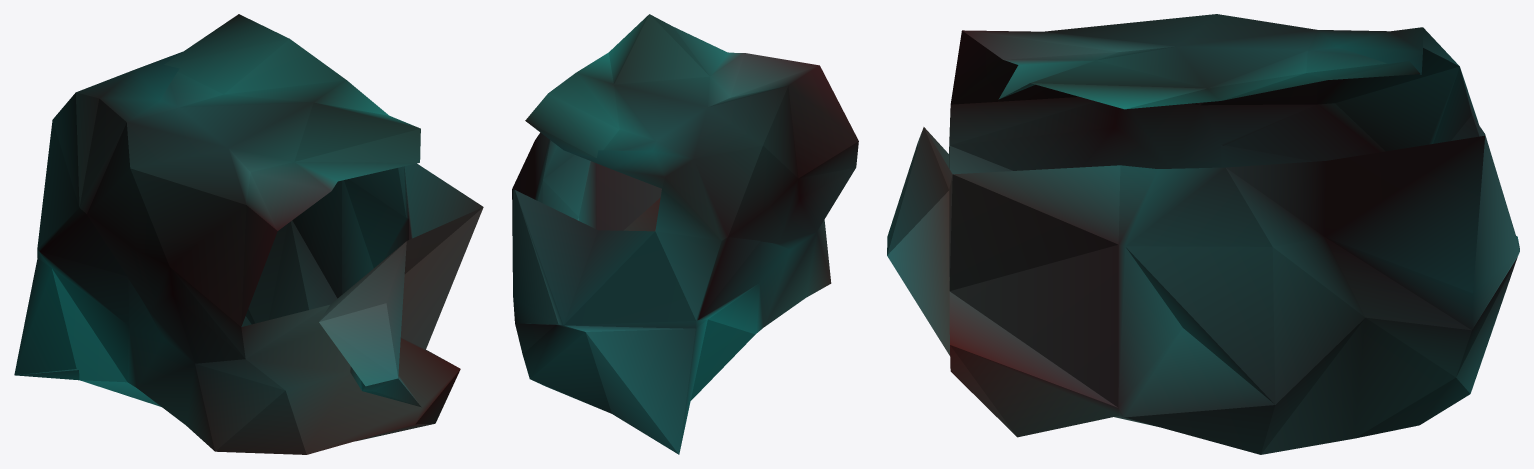
3 renders of one model, left to right at view 1: azimuth 30°, elevation 25°; view 2: azimuth 150°, elevation 25°; view 3: azimuth 270°, elevation 25°, orthographic. The views are drawn at different scales.
Size of the model in its own units: 1.04 by 1.3 by 1.91.
